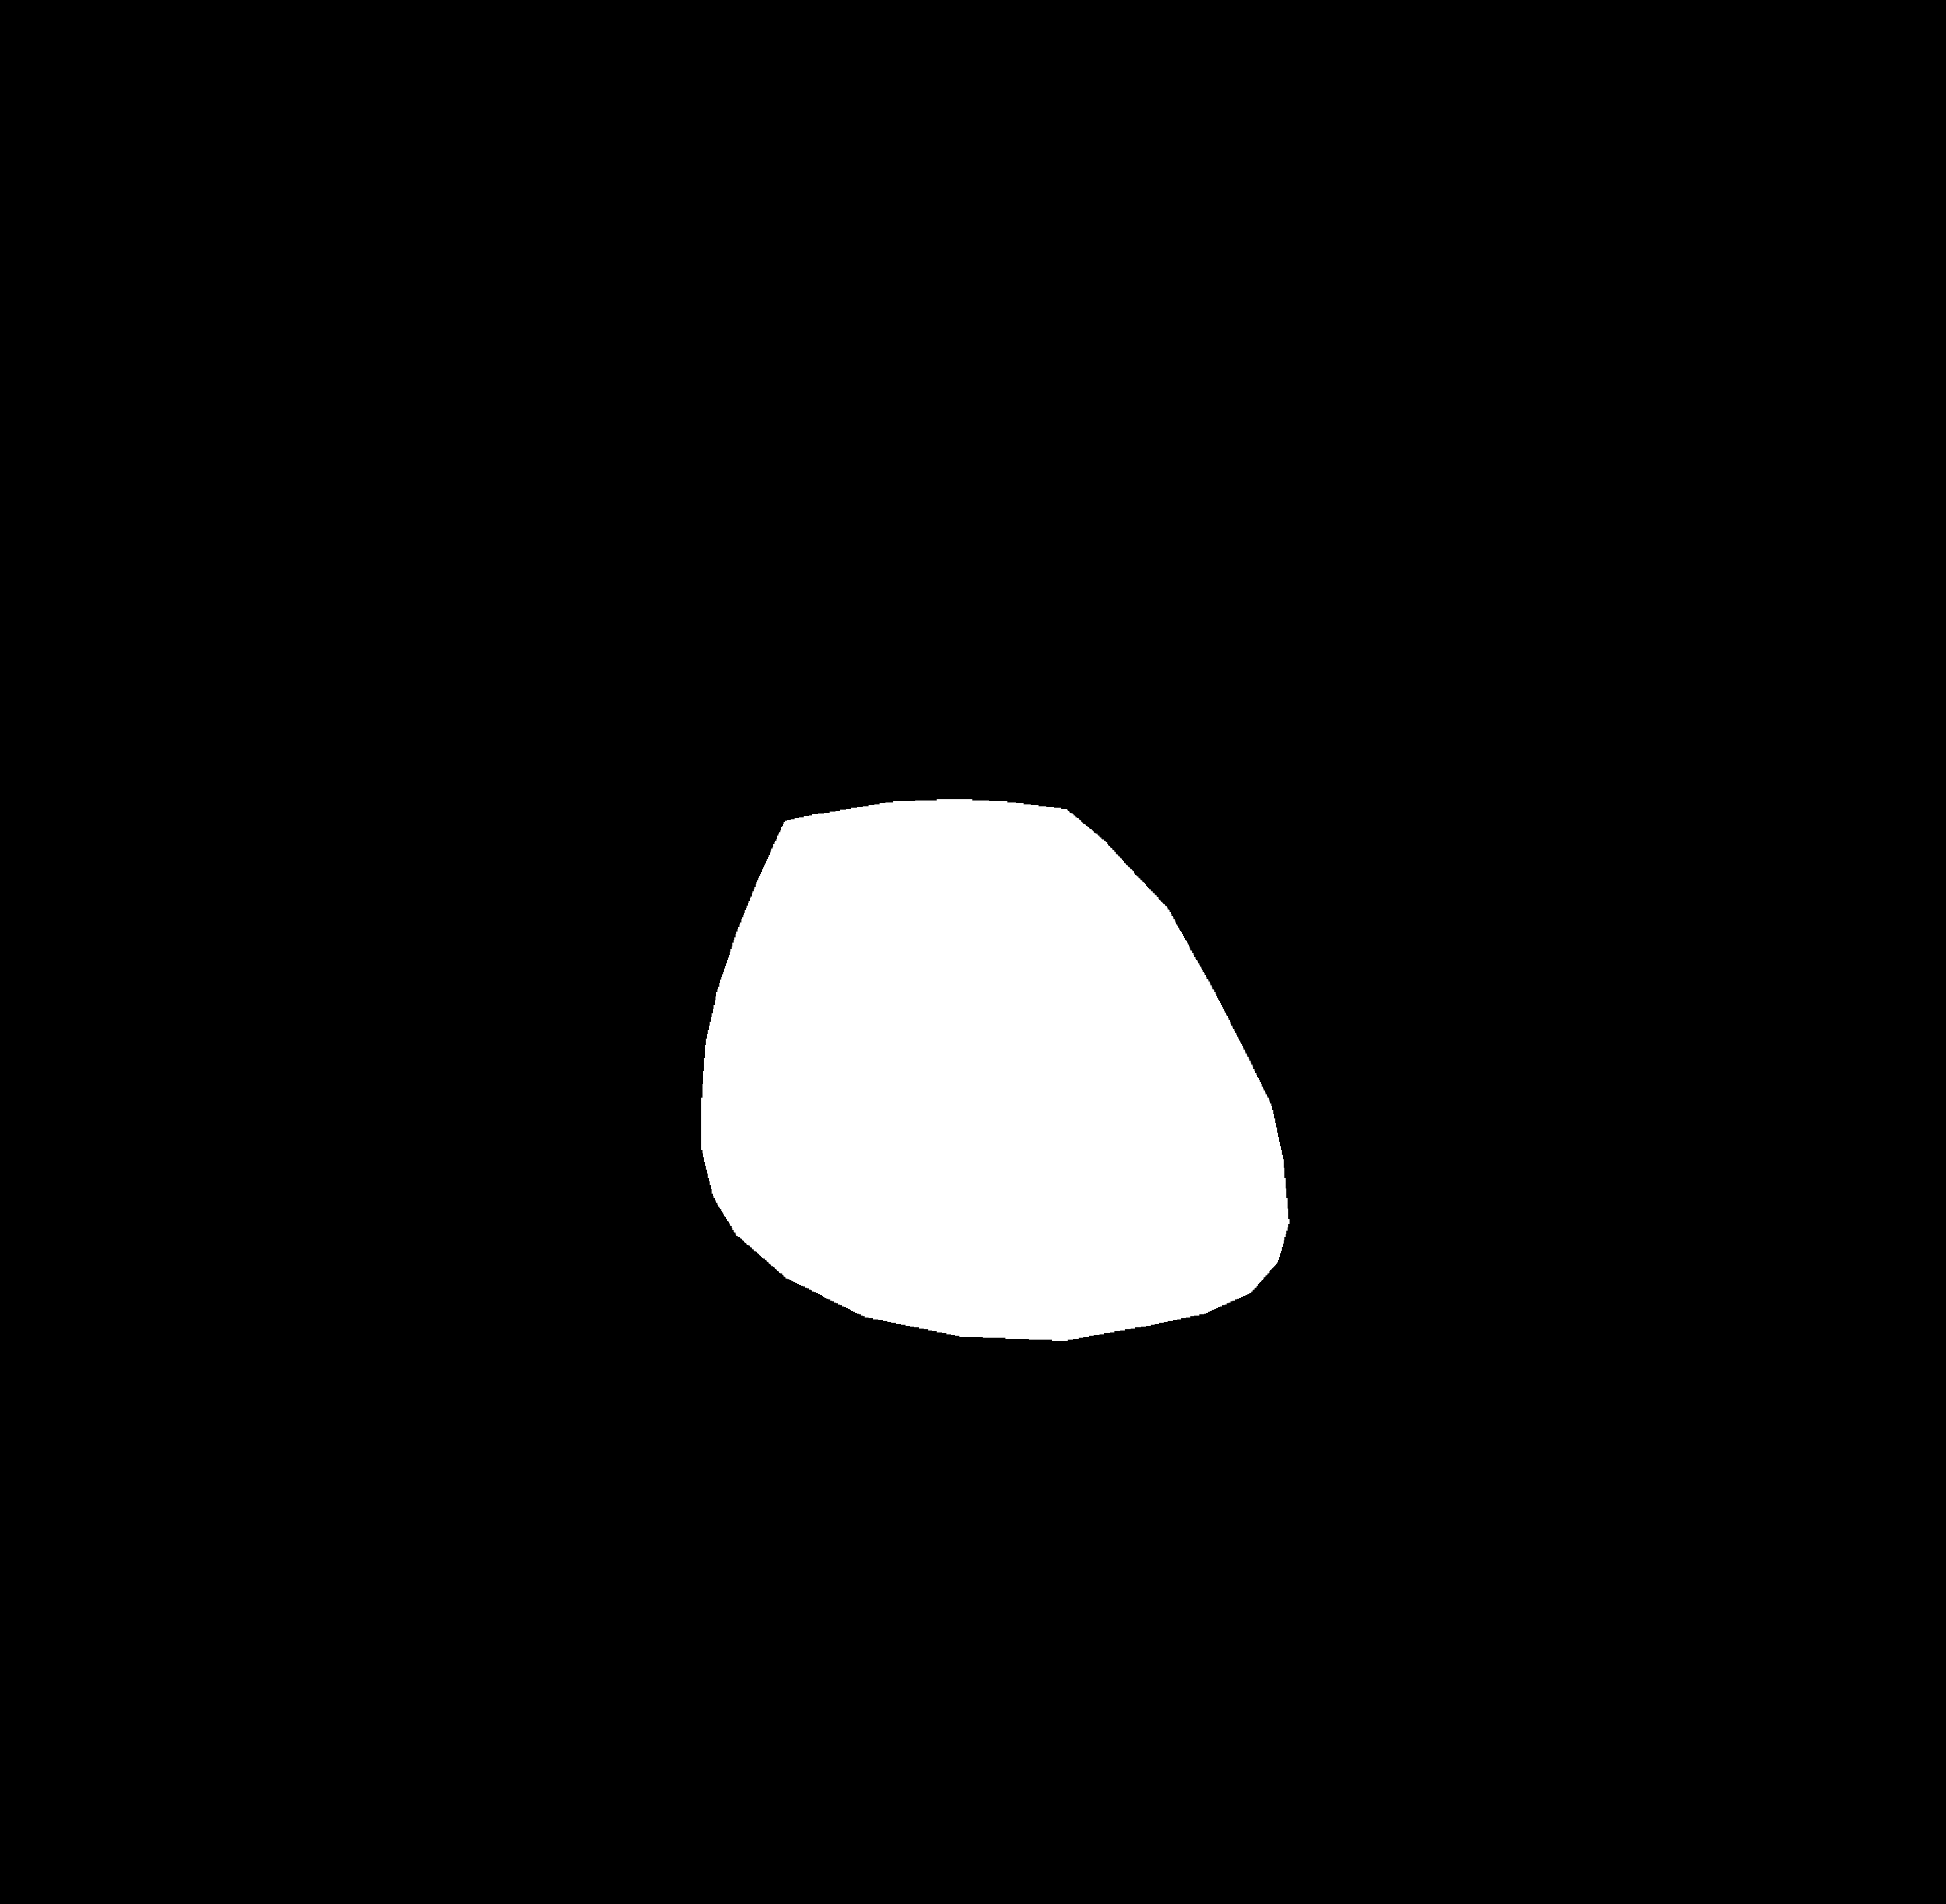heart: (703, 900, 1285, 1329)
left_lung: (277, 169, 813, 1383)
right_lung: (994, 188, 1515, 1395)
